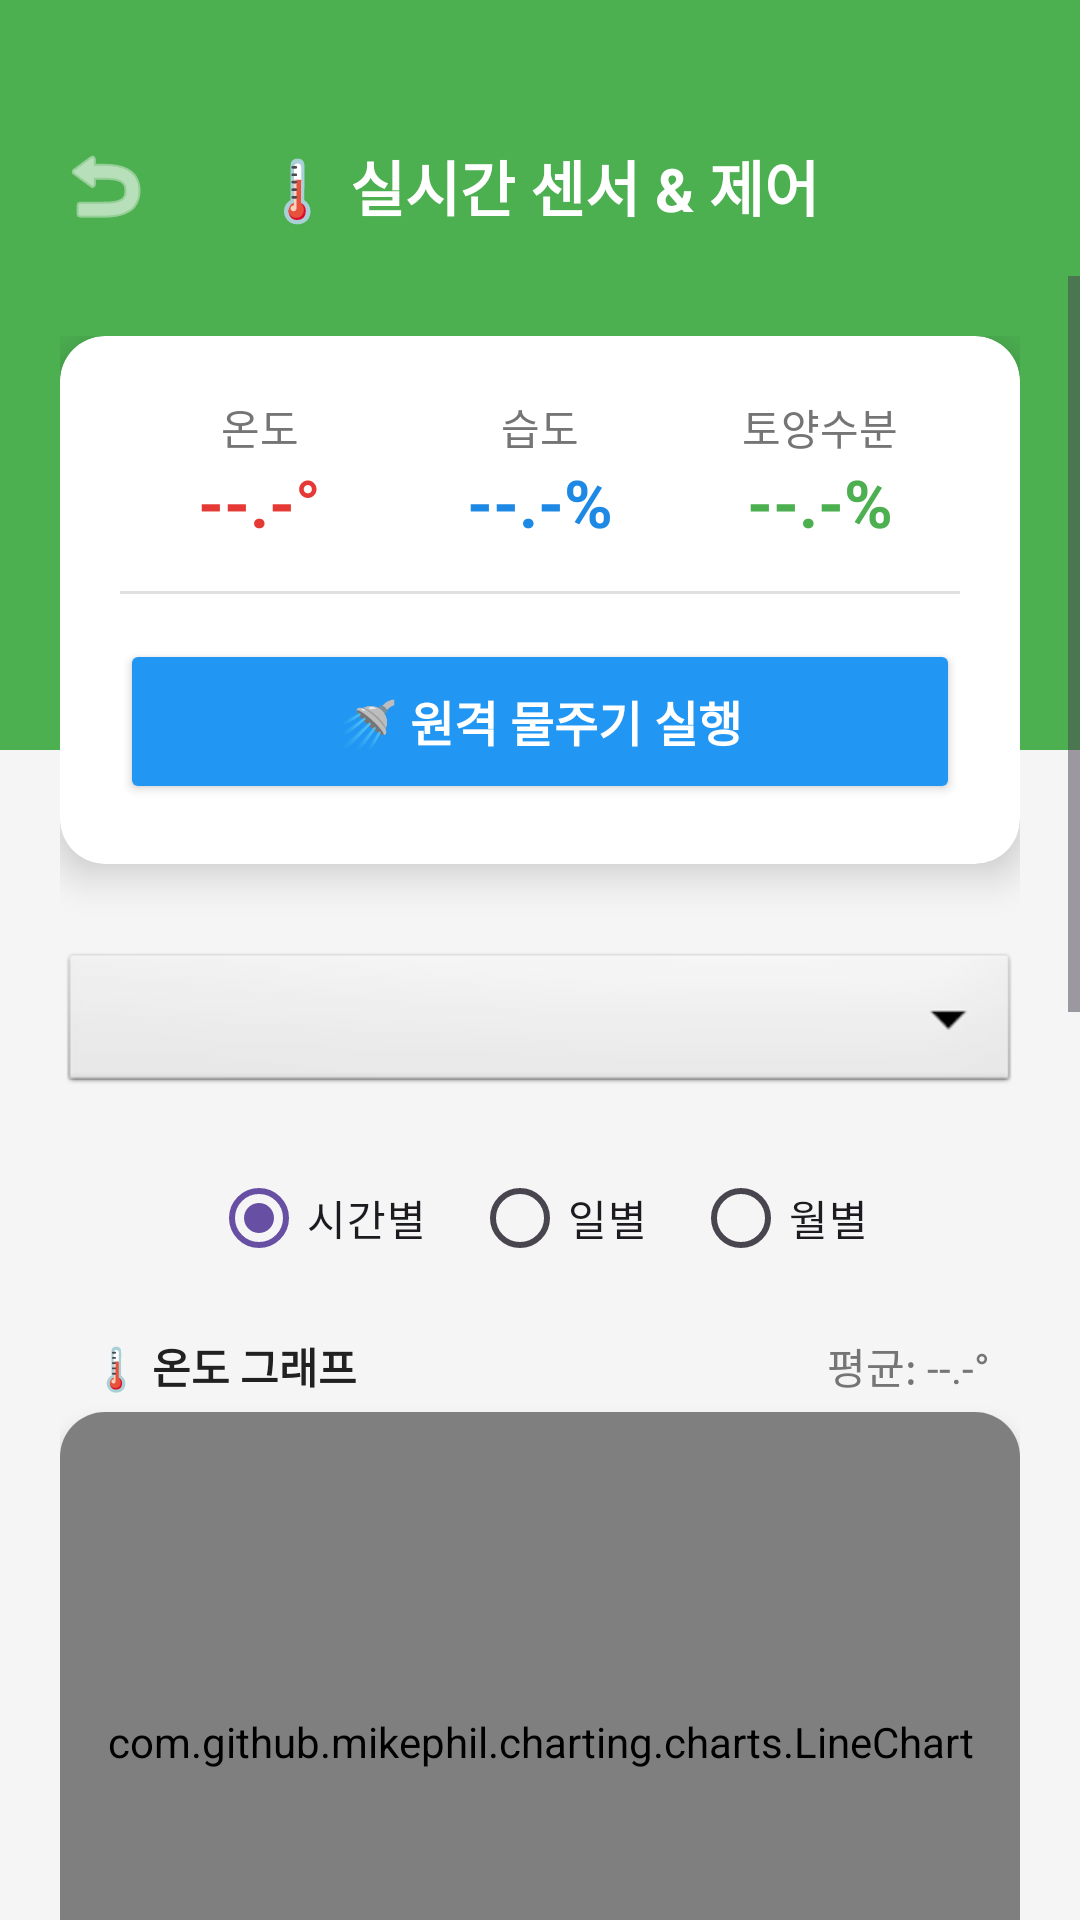

Locate icon controls on the screen. Image size 1080px x 1920px, boxes as (x1, y1, x2, y2).
뒤로가기: (72, 155, 141, 218)
